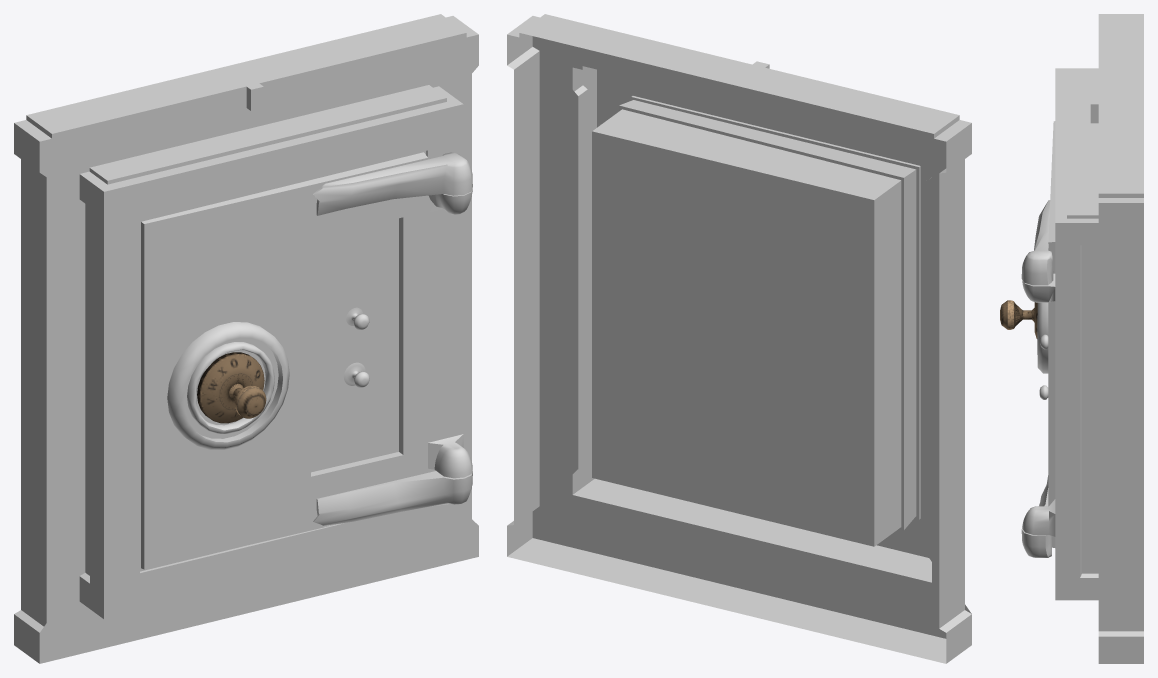
The model's file is Wall Safe Openable Animatable.fbx.
The picture shows the model from 3 angles, left to right: view 1: azimuth 30°, elevation 25°; view 2: azimuth 150°, elevation 25°; view 3: azimuth 270°, elevation 25°; orthographic projection. The views are drawn at different scales.
Visible parts, largest first — view 1: safe, Door, Dial_Main; view 2: safe, Door; view 3: safe, Door, Dial_Main.
Part boxes in pixels (x1=…): safe: x1=14, y1=14, x2=478, y2=663; Door: x1=141, y1=152, x2=472, y2=569; Dial_Main: x1=197, y1=352, x2=266, y2=423; safe: x1=507, y1=14, x2=971, y2=663; Door: x1=619, y1=100, x2=915, y2=530; safe: x1=1022, y1=14, x2=1143, y2=663; Door: x1=1021, y1=121, x2=1055, y2=557; Dial_Main: x1=1000, y1=300, x2=1037, y2=338.
Size of the model in its own units: 97.86 by 112 by 31.45.
